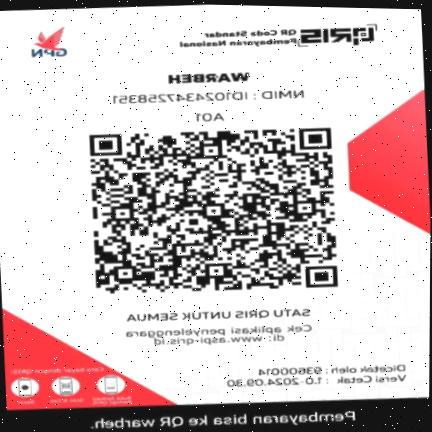Qris-Positioning: (0, 5, 430, 407)
